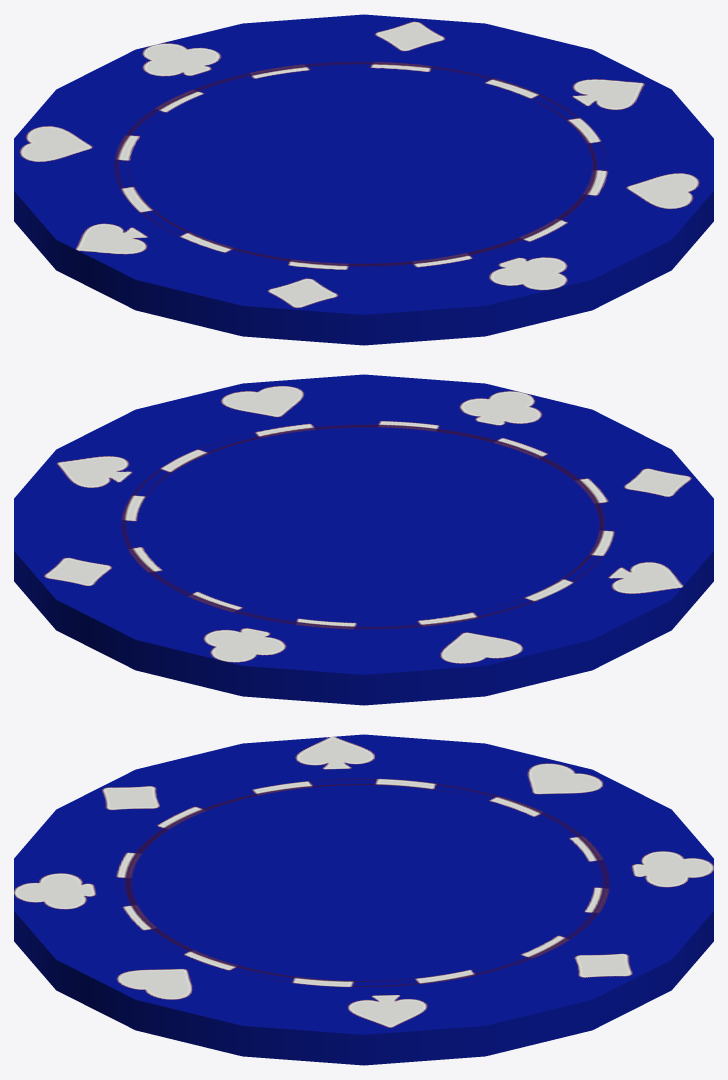
File: pokerChipBlue.FBX
The picture shows the model from 3 angles, top to bottom: view 1: azimuth 30°, elevation 25°; view 2: azimuth 150°, elevation 25°; view 3: azimuth 270°, elevation 25°; orthographic projection.
Visible parts, largest first — view 1: Cylinder001; view 2: Cylinder001; view 3: Cylinder001.
Part boxes in pixels (x1,y1,x2,y2): Cylinder001: (14,14,713,345); Cylinder001: (14,374,713,705); Cylinder001: (14,734,713,1065).
Bounding box in the file's own units: 4.12 × 0.1958 × 4.05.
Materials: 1 (1 with a texture image).
